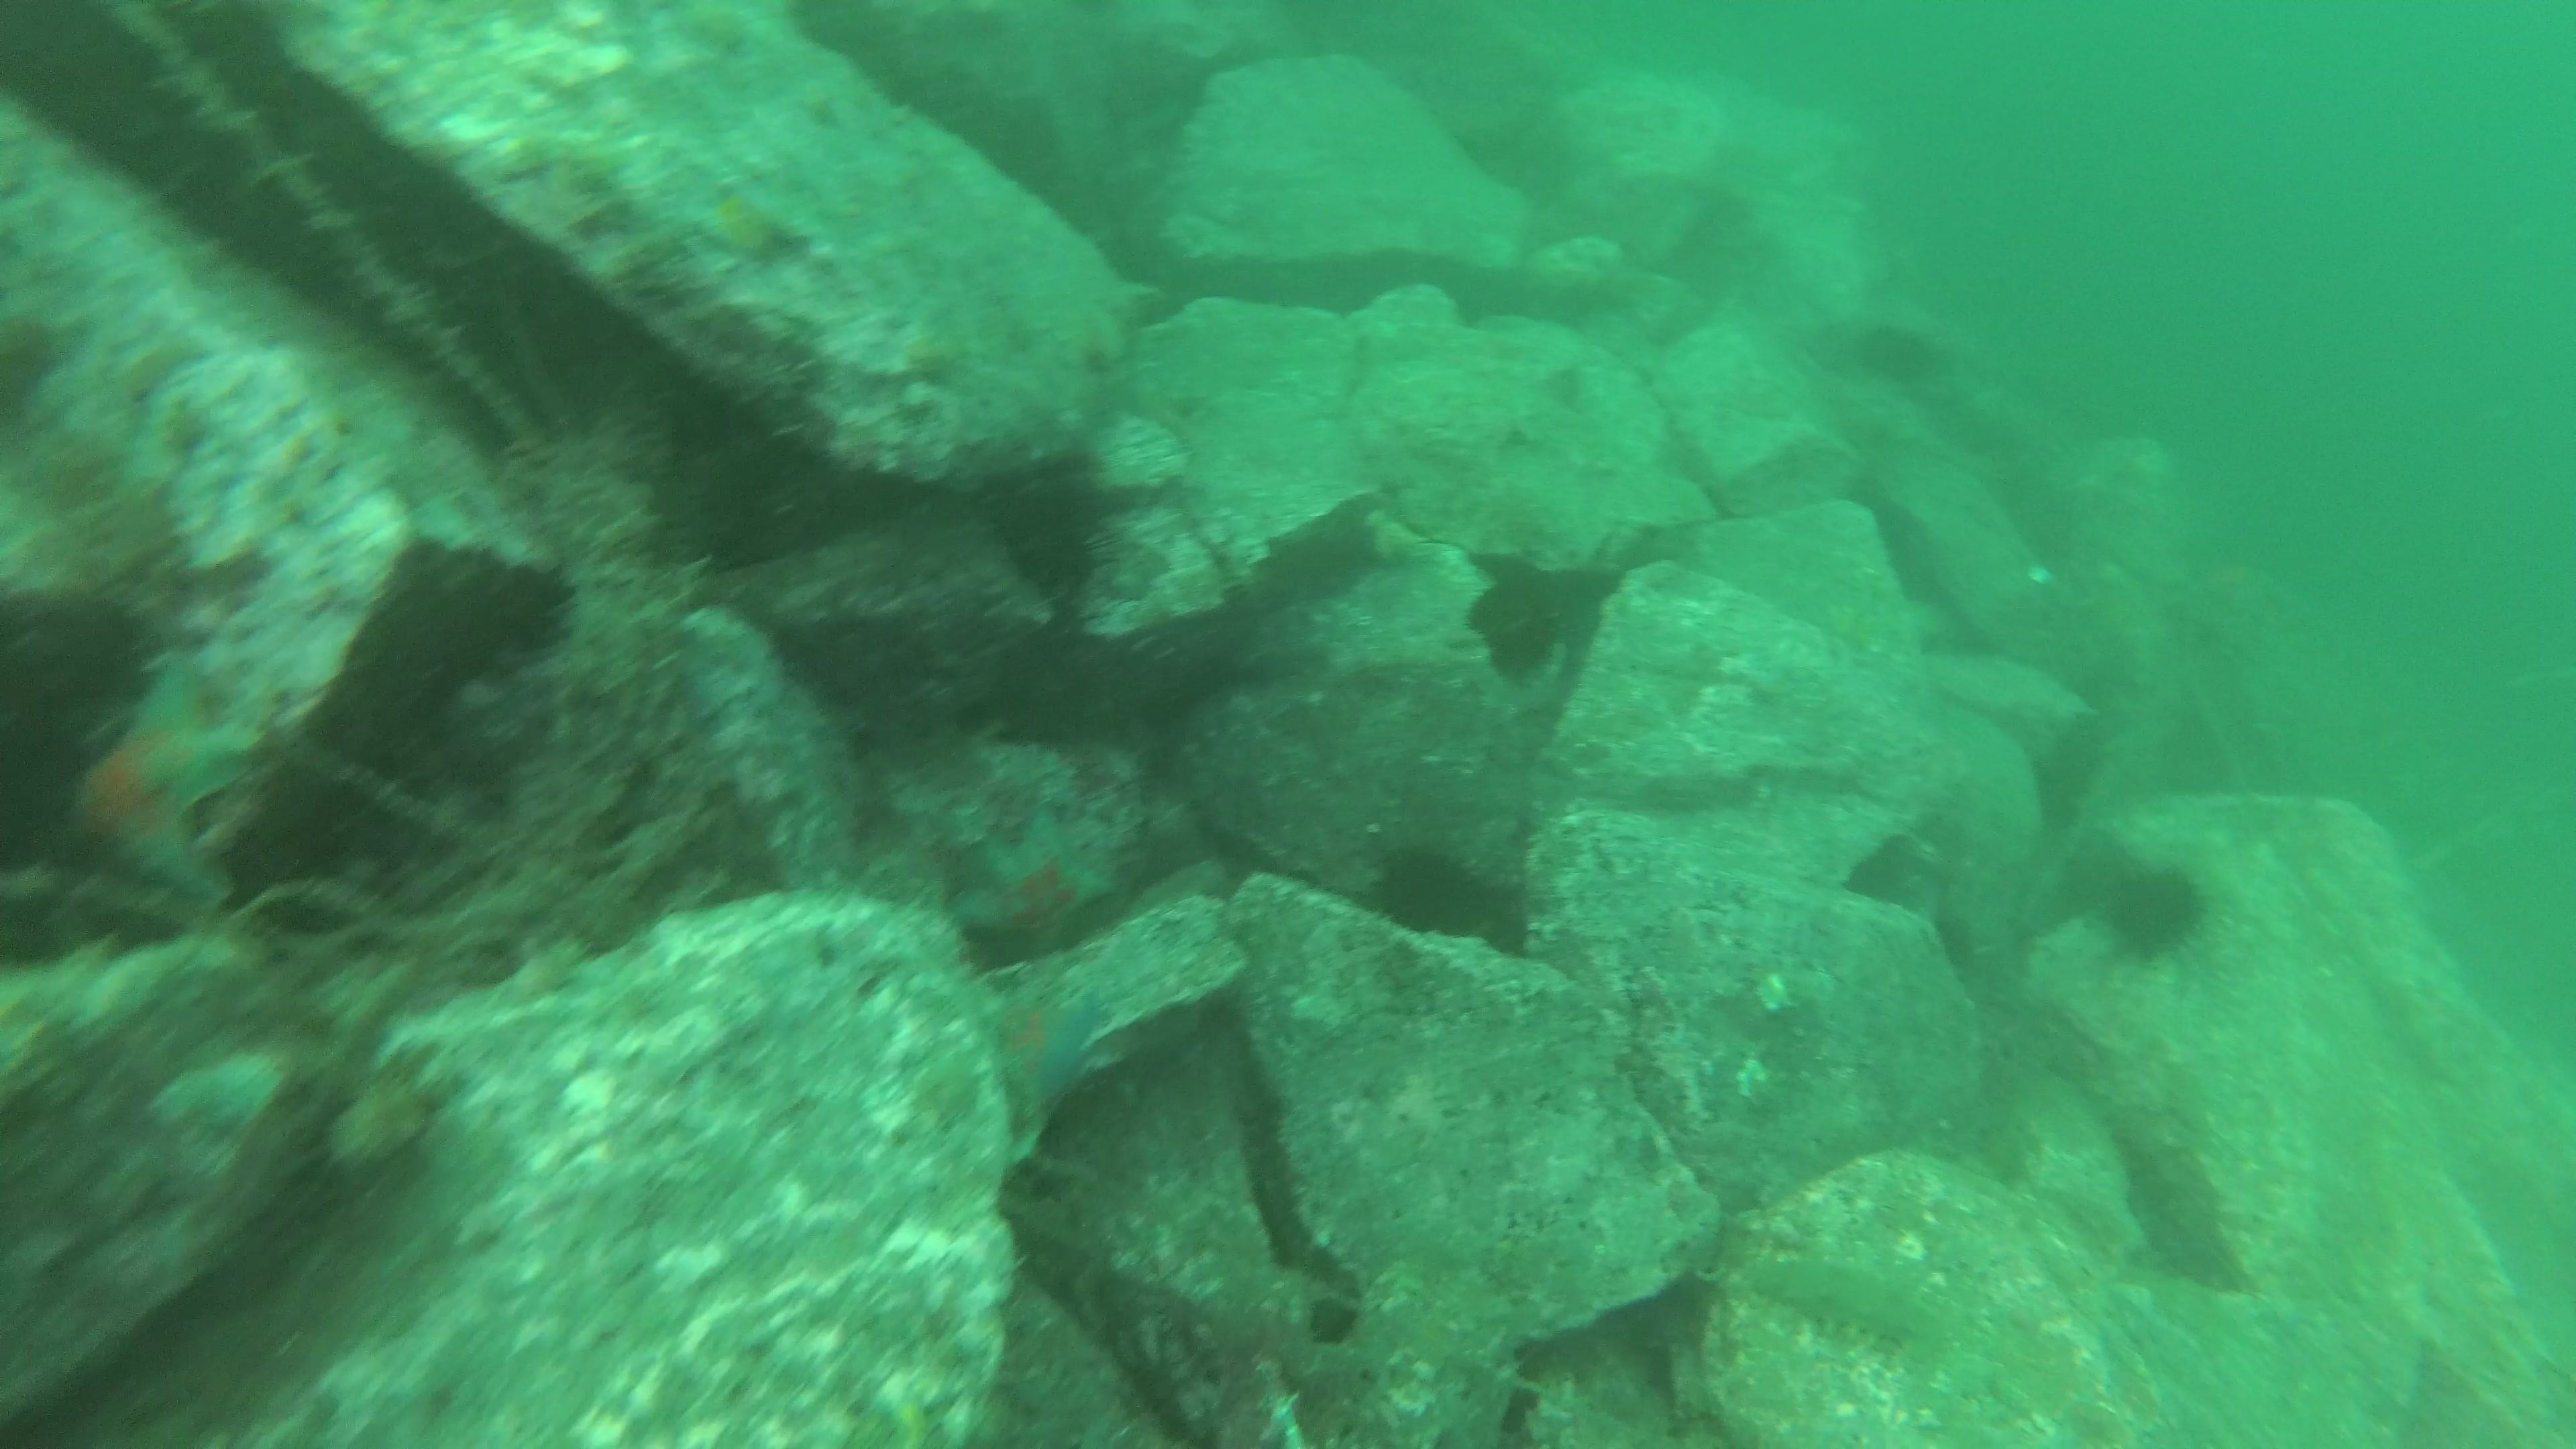echinus: (1361, 833, 1530, 955), (980, 460, 1120, 605), (2093, 855, 2215, 966)
holothurian: (1737, 1240, 1937, 1353)
starfish: (53, 658, 260, 906), (948, 796, 1131, 964), (977, 980, 1118, 1146), (674, 173, 812, 271)
